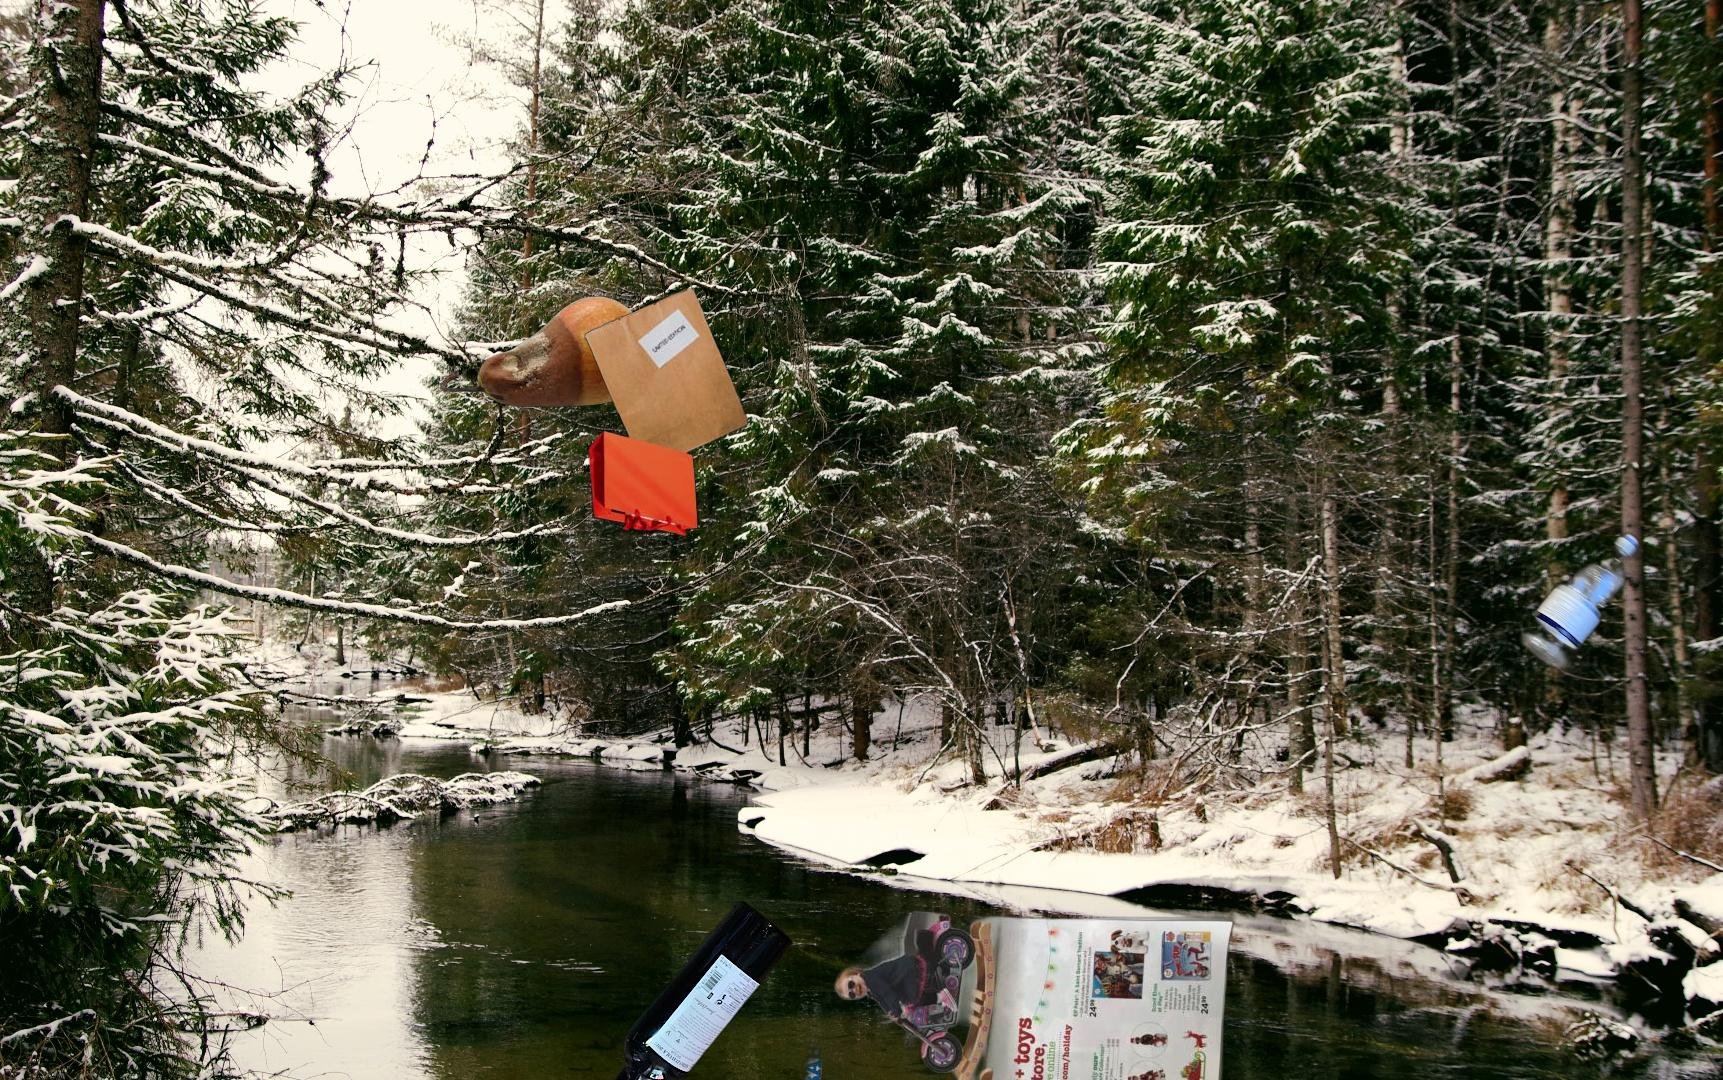biological: (438, 292, 649, 411)
glass: (560, 895, 797, 1080)
paper: (787, 905, 1242, 1080)
paper-bag: (583, 285, 750, 539)
plastic-bottles: (1514, 529, 1647, 686)
